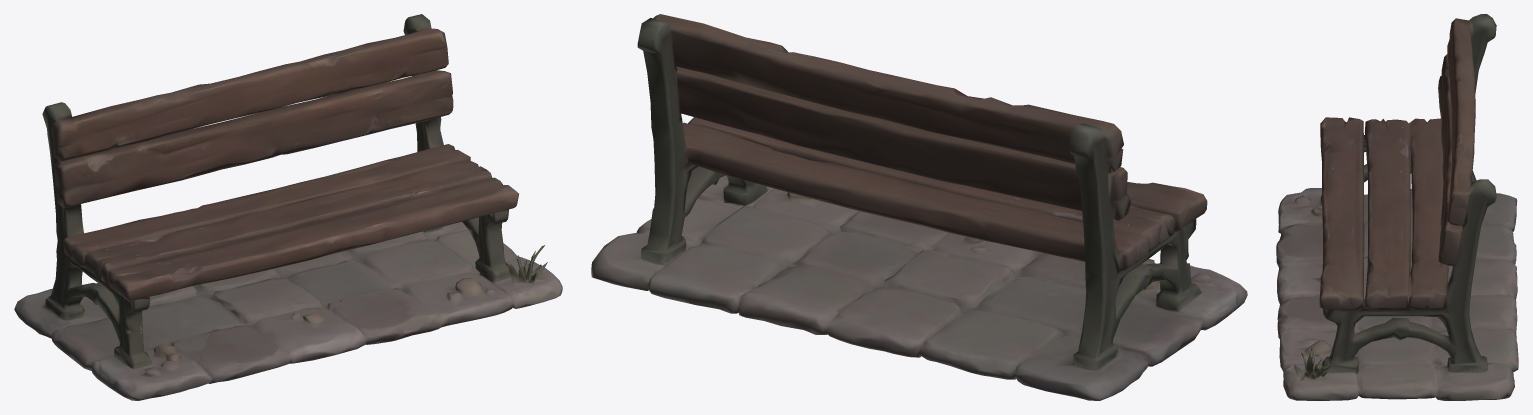
The model's file is railway_station_platform_bench.glb.
The picture shows the model from 3 angles, left to right: view 1: azimuth 30°, elevation 25°; view 2: azimuth 150°, elevation 25°; view 3: azimuth 270°, elevation 25°; orthographic projection. The views are drawn at different scales.
Visible parts, largest first — view 1: tripo_node_fea2cb8b-2ddf-4c29-b587-50ad5a89898d; view 2: tripo_node_fea2cb8b-2ddf-4c29-b587-50ad5a89898d; view 3: tripo_node_fea2cb8b-2ddf-4c29-b587-50ad5a89898d.
Boxes of the visible parts, x1,y1,x2,y2 form: tripo_node_fea2cb8b-2ddf-4c29-b587-50ad5a89898d: (14,14,562,400); tripo_node_fea2cb8b-2ddf-4c29-b587-50ad5a89898d: (591,14,1247,400); tripo_node_fea2cb8b-2ddf-4c29-b587-50ad5a89898d: (1276,14,1518,400).
Bounding box in the file's own units: 1 × 0.4585 × 0.5053.
Materials: 1 (1 with a texture image).
